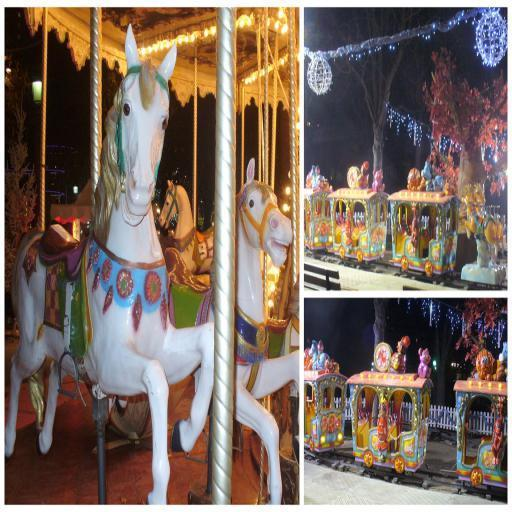horse: (5, 24, 215, 504), (108, 156, 299, 504), (157, 176, 215, 276)
